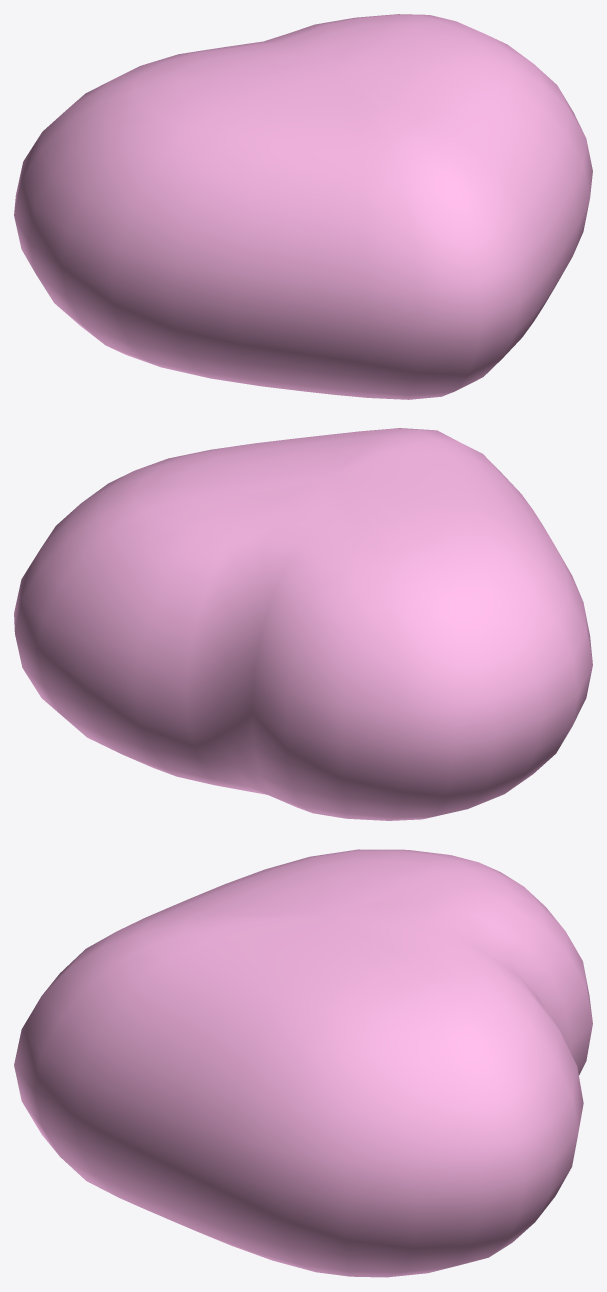
Rendered from Heartcandy_03.fbx.
3 renders of one model, top to bottom at view 1: azimuth 30°, elevation 25°; view 2: azimuth 150°, elevation 25°; view 3: azimuth 270°, elevation 25°, orthographic. The views are drawn at different scales.
Visible parts, largest first — view 1: Heartcandy_03_LOD0; view 2: Heartcandy_03_LOD0; view 3: Heartcandy_03_LOD0.
Part boxes in pixels (x1,y1,x2,y2): Heartcandy_03_LOD0: (14,14,592,399); Heartcandy_03_LOD0: (14,428,592,820); Heartcandy_03_LOD0: (14,849,592,1277).
Size of what is drawn, in the model's own units: 498 by 261 by 455.
